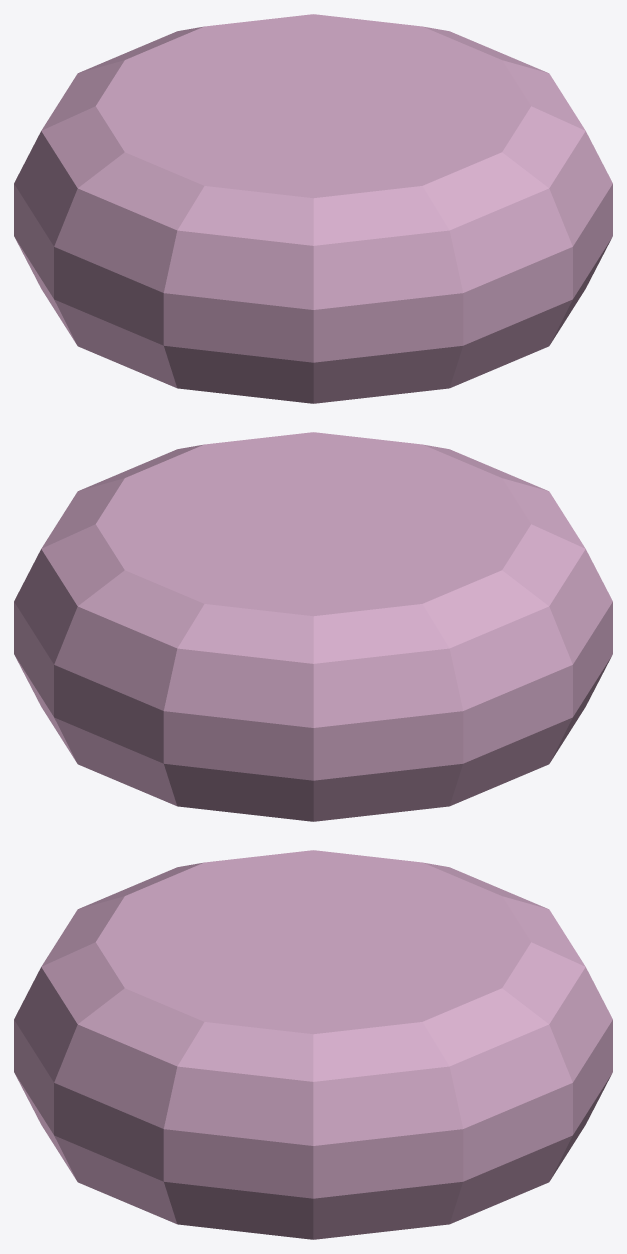
File: Shaving Soap.fbx
3 renders of one model, top to bottom at view 1: azimuth 30°, elevation 25°; view 2: azimuth 150°, elevation 25°; view 3: azimuth 270°, elevation 25°, orthographic.
Parts seen in each view (by area): view 1: Shaving Soap; view 2: Shaving Soap; view 3: Shaving Soap.
Part boxes in pixels (x1,y1,x2,y2): Shaving Soap: (14,14,612,403); Shaving Soap: (14,432,612,821); Shaving Soap: (14,850,612,1239).
Size of the model in its own units: 66 by 22.2 by 66.
